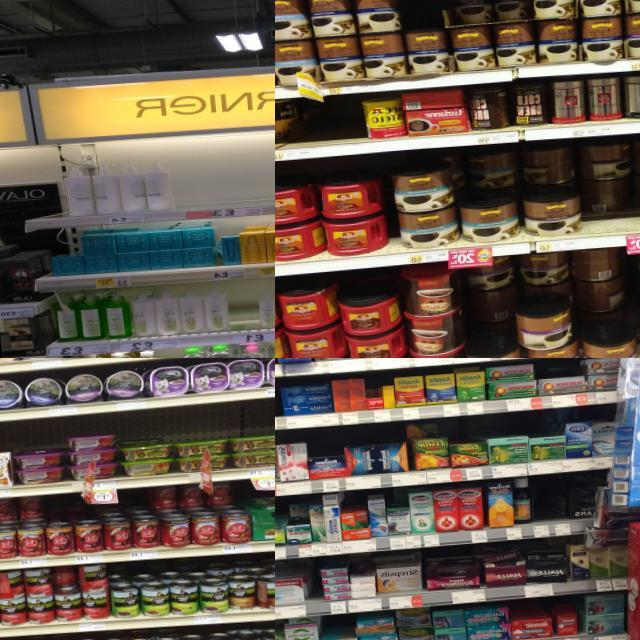Imprecise: (452, 142, 577, 239), (575, 237, 640, 350), (454, 262, 528, 354), (442, 0, 537, 71), (154, 484, 250, 550), (576, 132, 640, 230), (520, 249, 573, 350), (0, 492, 49, 561), (409, 418, 452, 470), (280, 500, 320, 548)
